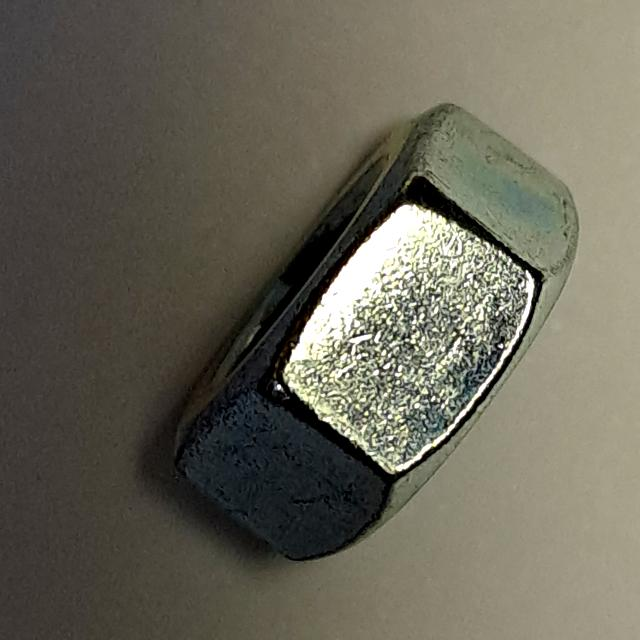Side_Excellent: (160, 98, 590, 570)
